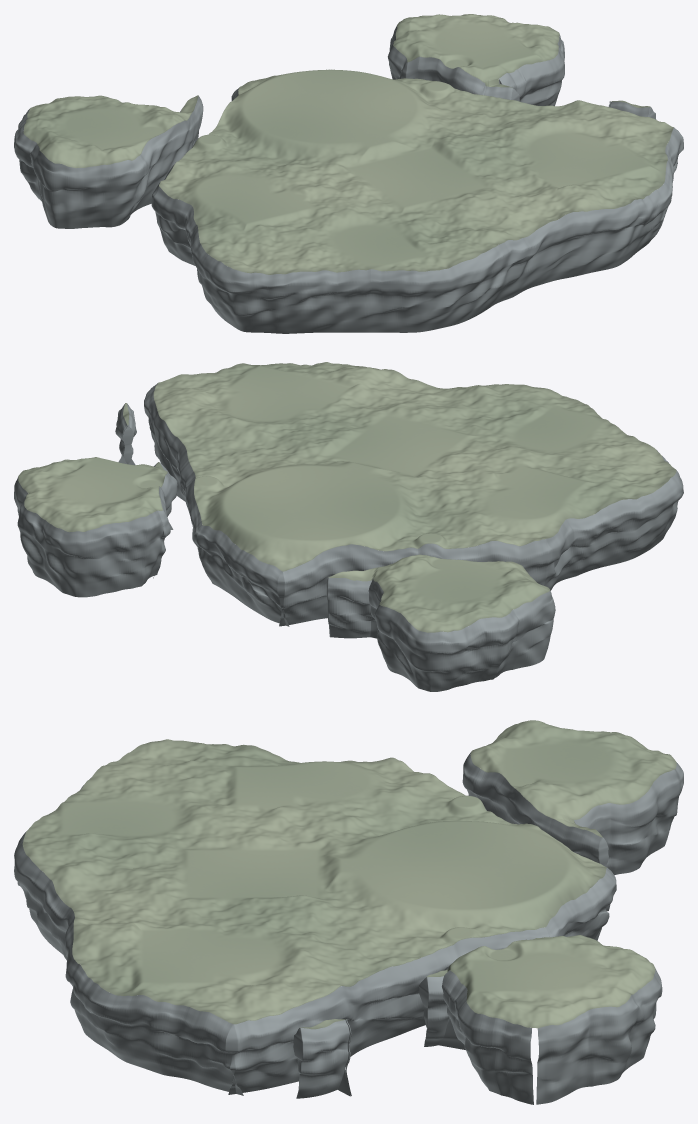
3 renders of one model, top to bottom at view 1: azimuth 30°, elevation 25°; view 2: azimuth 150°, elevation 25°; view 3: azimuth 270°, elevation 25°, orthographic. The views are drawn at different scales.
Visible parts, largest first — view 1: ground, cliffs; view 2: ground, cliffs; view 3: ground, cliffs.
Part boxes in pixels (<box>): ground: <box>23,14,673,274</box>; cliffs: <box>14,26,683,333</box>; ground: <box>18,362,676,632</box>; cliffs: <box>14,383,683,691</box>; ground: <box>22,720,676,1029</box>; cliffs: <box>14,752,683,1104</box>.
Size of the model in its own units: 238 by 34.19 by 219.
